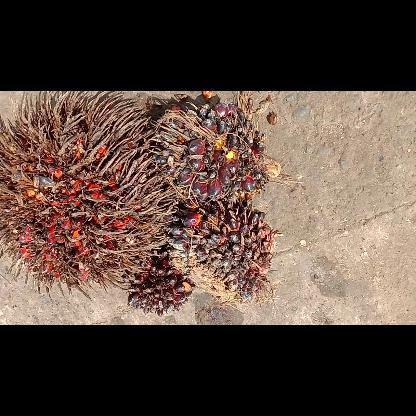TBS abnormal: (145, 99, 283, 209), (165, 200, 277, 309), (126, 248, 194, 316)
Terlalu masak: (0, 91, 182, 299)
